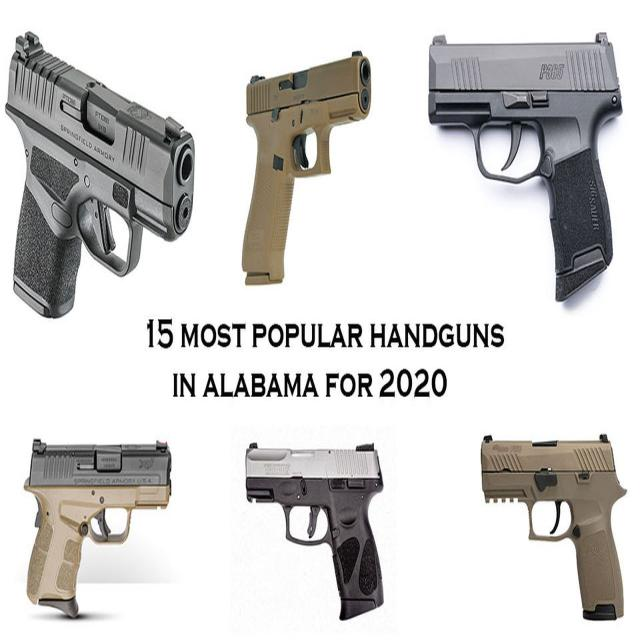HandGun: (3, 31, 198, 321), (428, 33, 624, 304), (242, 53, 374, 287), (480, 436, 626, 624), (24, 440, 173, 618), (246, 445, 386, 622)
